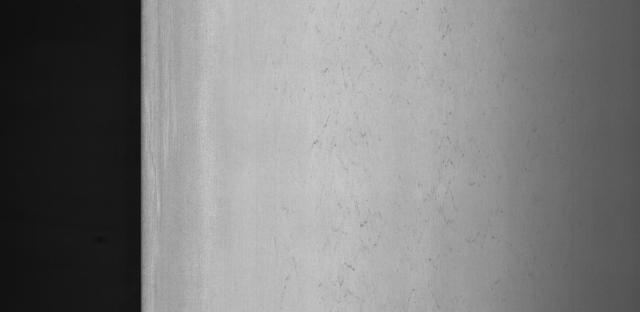silk_spot: (302, 33, 484, 268)
